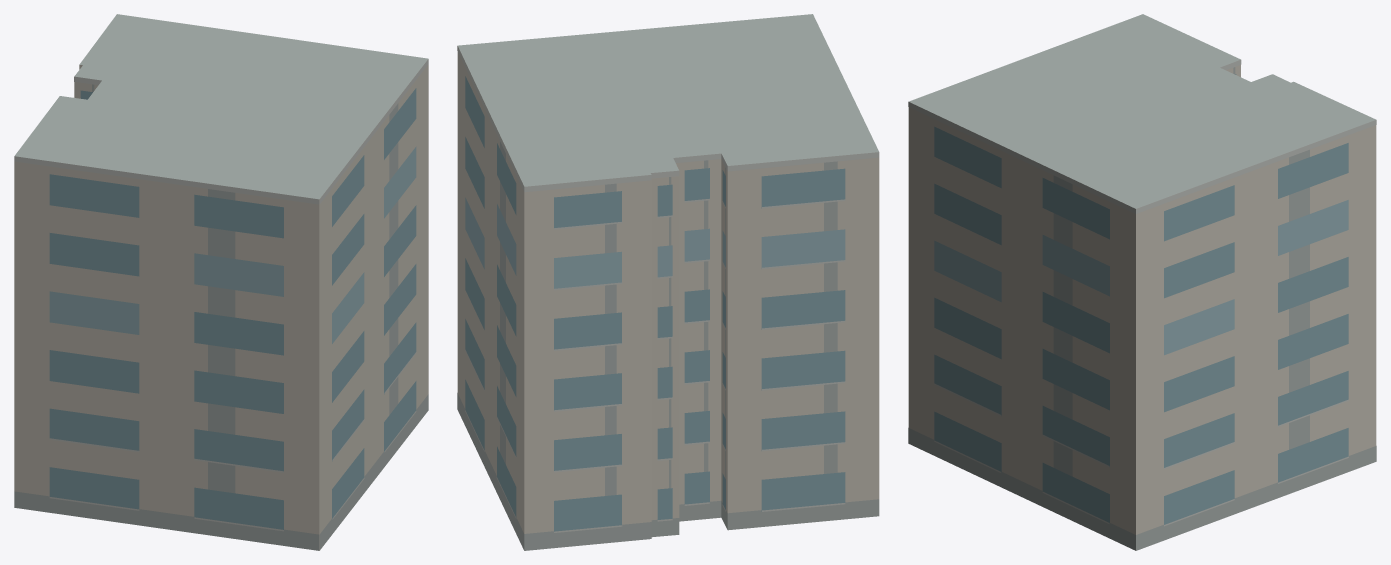
Rendered from survey-upis-32835677.glb.
3 views of the same model, side by side, from view 1: azimuth 30°, elevation 25°; view 2: azimuth 150°, elevation 25°; view 3: azimuth 270°, elevation 25° (orthographic). The views are drawn at different scales.
Parts seen in each view (by area): view 1: survey-upis-32835677.tmp; view 2: survey-upis-32835677.tmp; view 3: survey-upis-32835677.tmp.
Boxes of the visible parts, x1,y1,x2,y2 form: survey-upis-32835677.tmp: [14, 14, 428, 550]; survey-upis-32835677.tmp: [457, 14, 879, 550]; survey-upis-32835677.tmp: [908, 14, 1376, 550].
Bounding box in the file's own units: 19.76 × 16.15 × 20.04.
